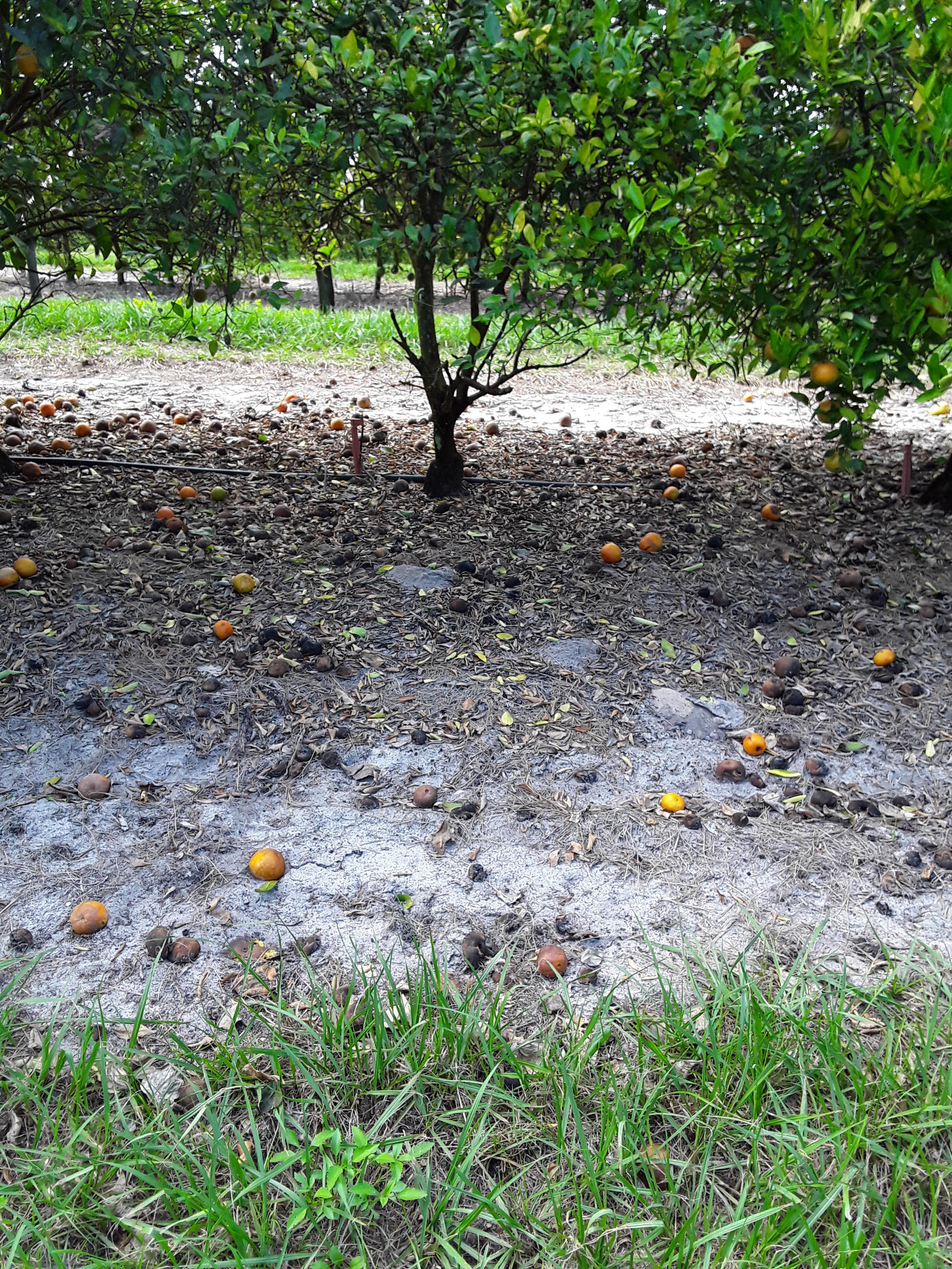fruit_on_ground: (13, 44, 44, 83), (764, 335, 798, 367), (824, 117, 852, 152), (814, 357, 842, 389), (824, 449, 847, 478), (735, 29, 759, 55), (819, 396, 840, 422), (110, 257, 135, 274), (192, 283, 209, 304)
fruit_on_tree: (71, 893, 112, 938), (251, 845, 289, 886), (538, 940, 570, 980), (408, 783, 436, 816), (79, 775, 108, 804), (598, 541, 623, 569), (874, 643, 897, 673), (231, 573, 254, 600), (745, 735, 768, 761), (657, 484, 682, 507), (639, 534, 662, 558), (664, 794, 686, 818), (176, 482, 198, 505), (212, 620, 233, 644), (16, 558, 38, 580), (79, 697, 101, 719), (714, 756, 736, 778), (667, 460, 688, 483), (209, 482, 230, 505), (775, 652, 796, 675), (64, 390, 84, 414), (150, 503, 173, 522), (284, 387, 303, 409), (765, 680, 783, 703), (353, 393, 373, 413), (137, 416, 156, 437), (270, 398, 289, 418), (762, 503, 779, 525), (455, 561, 473, 581), (707, 533, 724, 554), (171, 411, 190, 429), (4, 391, 21, 411), (26, 461, 44, 479), (864, 592, 882, 610), (20, 390, 37, 407), (272, 507, 289, 524), (558, 416, 574, 434), (488, 419, 504, 437), (332, 412, 347, 431), (52, 393, 68, 410), (50, 440, 67, 456), (1, 572, 17, 588), (561, 412, 575, 429), (44, 400, 58, 416), (80, 427, 93, 440)
